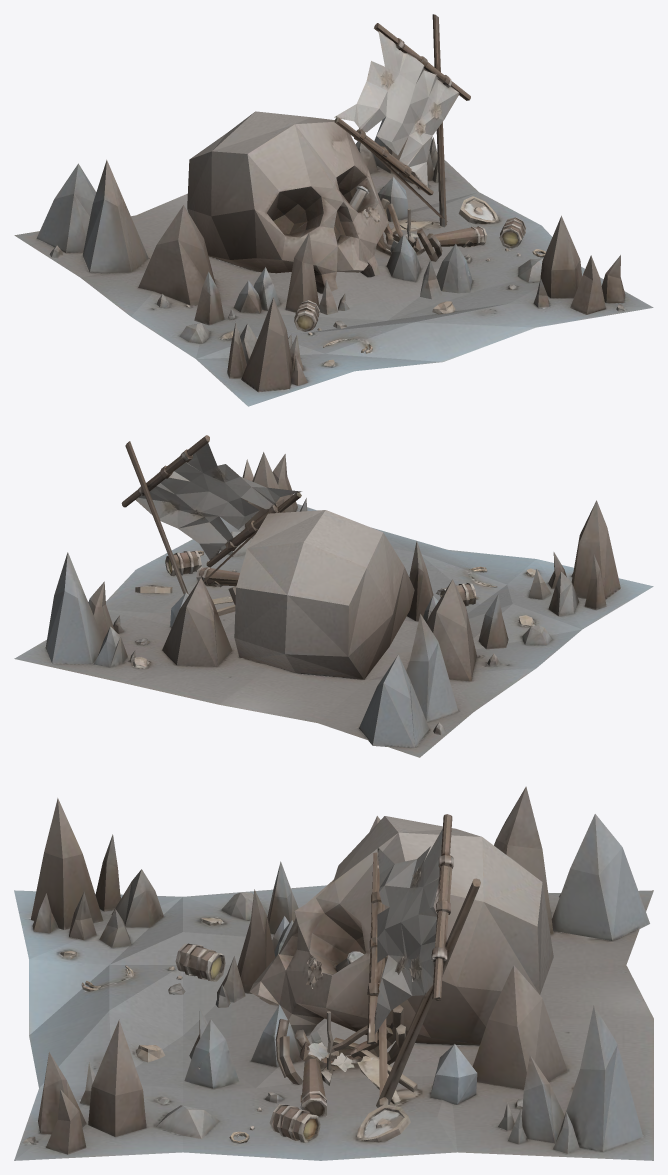
File: skull_rock.glb
The picture shows the model from 3 angles, top to bottom: view 1: azimuth 30°, elevation 25°; view 2: azimuth 150°, elevation 25°; view 3: azimuth 270°, elevation 25°; orthographic projection. The views are drawn at different scales.
Visible parts, largest first — view 1: tripo_node_d4593754-84dd-4a6b-9659-45f2cf318a29; view 2: tripo_node_d4593754-84dd-4a6b-9659-45f2cf318a29; view 3: tripo_node_d4593754-84dd-4a6b-9659-45f2cf318a29.
Part boxes in pixels (x1=…): tripo_node_d4593754-84dd-4a6b-9659-45f2cf318a29: x1=14, y1=14, x2=653, y2=406; tripo_node_d4593754-84dd-4a6b-9659-45f2cf318a29: x1=14, y1=435, x2=653, y2=757; tripo_node_d4593754-84dd-4a6b-9659-45f2cf318a29: x1=14, y1=786, x2=653, y2=1160.
Size of the model in its own units: 0.998 by 0.4824 by 0.998.
1 material, 1 textured.
